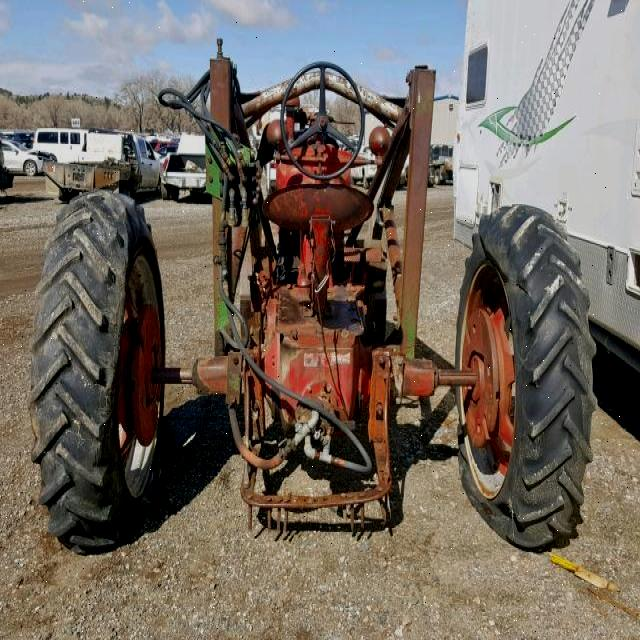Tratores - v5 YOLO V8L 2024-11-13: (18, 32, 600, 566)
